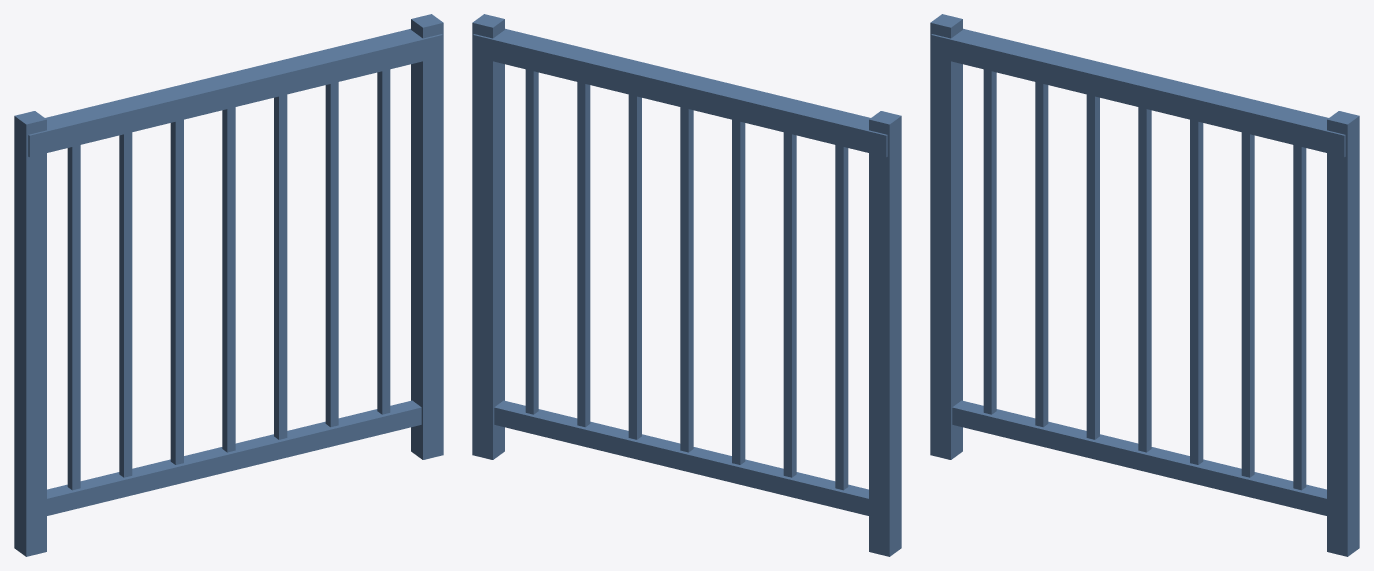
The model's file is Railing.fbx.
3 views of the same model, side by side, from view 1: azimuth 30°, elevation 25°; view 2: azimuth 150°, elevation 25°; view 3: azimuth 330°, elevation 25° (orthographic).
Parts seen in each view (by area): view 1: Railing; view 2: Railing; view 3: Railing.
Part boxes in pixels (bbox=[...]): Railing: bbox=[14, 14, 443, 556]; Railing: bbox=[472, 14, 901, 556]; Railing: bbox=[930, 14, 1359, 556].
Size of the model in its own units: 1.01 by 1 by 0.06.
Materials: 1 (1 with a texture image).
